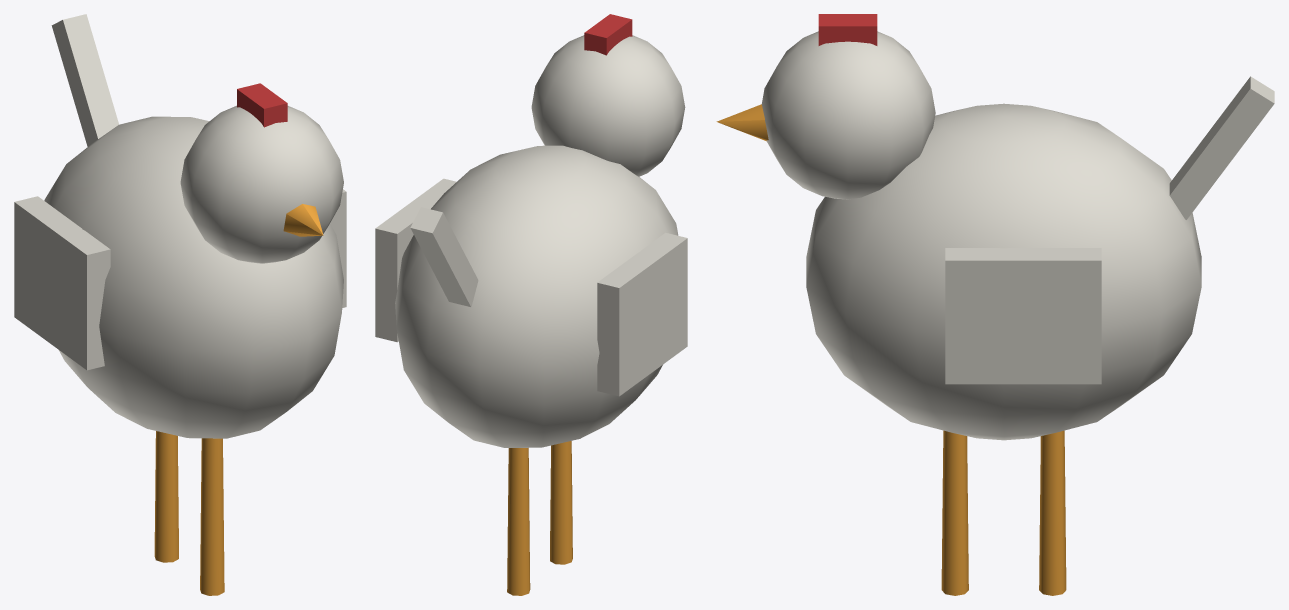
The model's file is chicken.glb.
3 views of the same model, side by side, from view 1: azimuth 30°, elevation 25°; view 2: azimuth 150°, elevation 25°; view 3: azimuth 270°, elevation 25° (orthographic). The views are drawn at different scales.
Visible parts, largest first — view 1: body, head, wing0, tail, leg0, leg1, comb, beak, wing1; view 2: body, head, wing0, wing1, tail, leg1, leg0, comb; view 3: body, head, wing1, tail, leg1, leg0, comb, beak.
Boxes of the visible parts, x1,y1,x2,y2 form: body: (44,116,343,438); head: (180,105,343,263); wing0: (14,196,110,370); tail: (51,14,118,146); leg0: (200,438,224,595); leg1: (154,431,178,562); comb: (237,83,287,127); beak: (283,204,323,236); wing1: (330,189,346,307); body: (395,145,678,447); head: (531,35,685,176); wing0: (597,232,687,396); wing1: (375,178,456,342); tail: (410,207,478,306); leg1: (507,448,530,595); leg0: (550,441,572,564); comb: (584,14,632,55); body: (806,103,1201,440); head: (761,31,935,199); wing1: (945,248,1101,384); tail: (1169,76,1274,219); leg1: (1039,430,1066,595); leg0: (941,430,968,595); comb: (818,14,877,45); beak: (716,104,768,141).
Bounding box in the file's own units: 0.33 × 0.645 × 0.5726.
